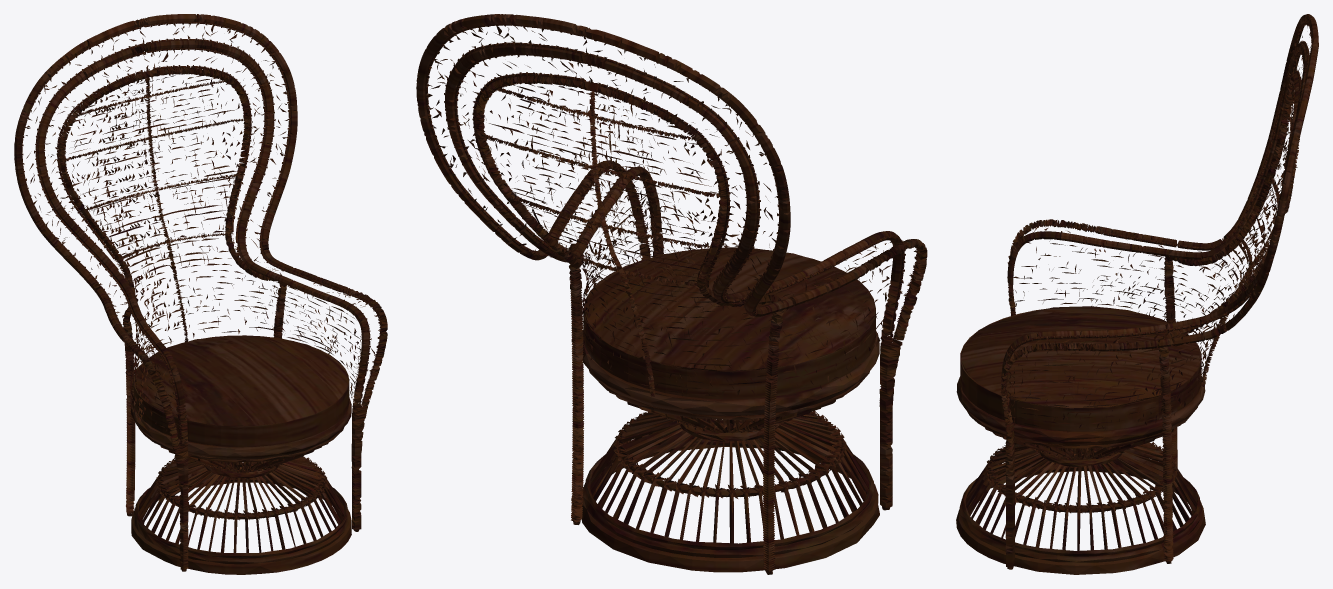
The model's file is rattan-peacock-chair.glb.
3 renders of one model, left to right at view 1: azimuth 30°, elevation 25°; view 2: azimuth 150°, elevation 25°; view 3: azimuth 270°, elevation 25°, orthographic. The views are drawn at different scales.
Visible parts, largest first — view 1: product; view 2: product; view 3: product.
Part boxes in pixels (x1,y1,x2,y2): product: [14, 14, 387, 574]; product: [416, 14, 927, 574]; product: [956, 14, 1318, 574].
Size of the model in its own units: 0.6733 by 1 by 0.6795.
1 material, 1 textured.
